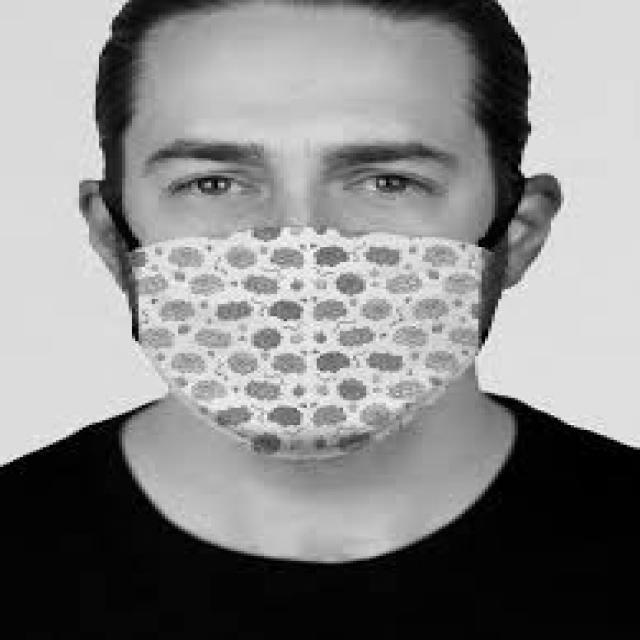fake: (130, 231, 493, 467)
real: (123, 4, 495, 474)
